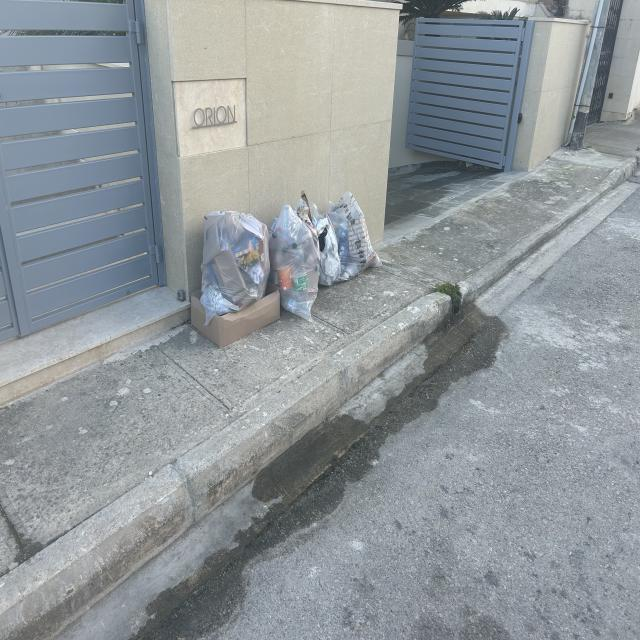grey_bag: (198, 207, 271, 314), (269, 204, 322, 321), (328, 190, 385, 280), (303, 195, 343, 285)
